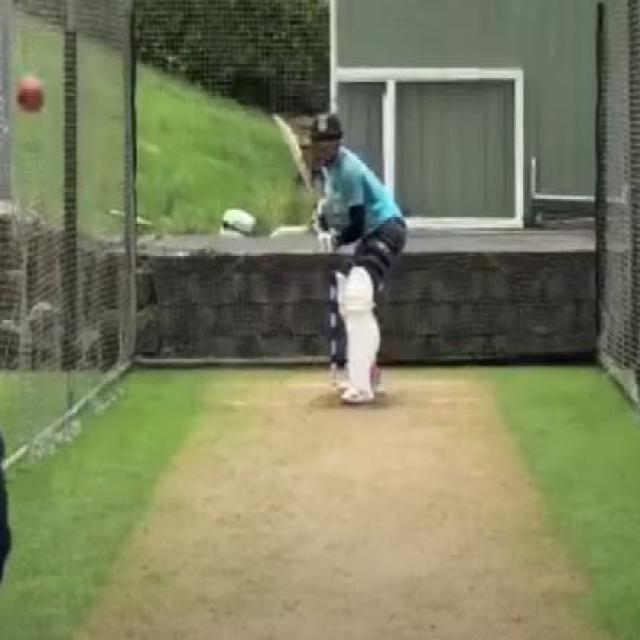ball: (13, 70, 52, 118)
